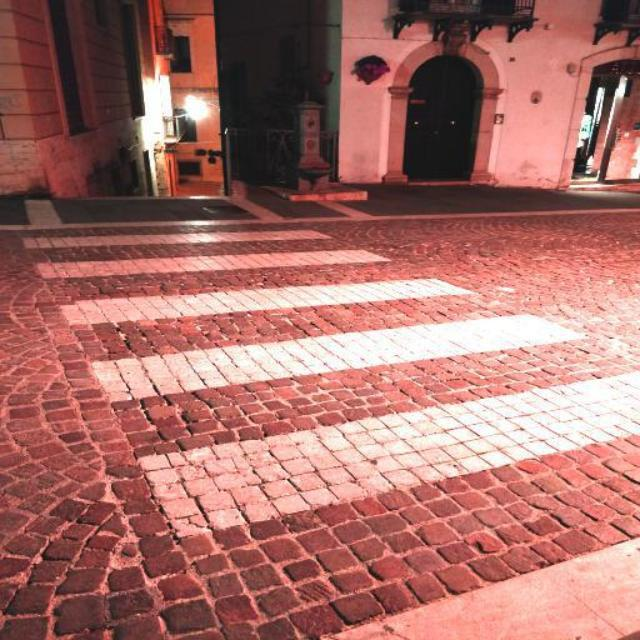sidewalk: (32, 224, 640, 640)
